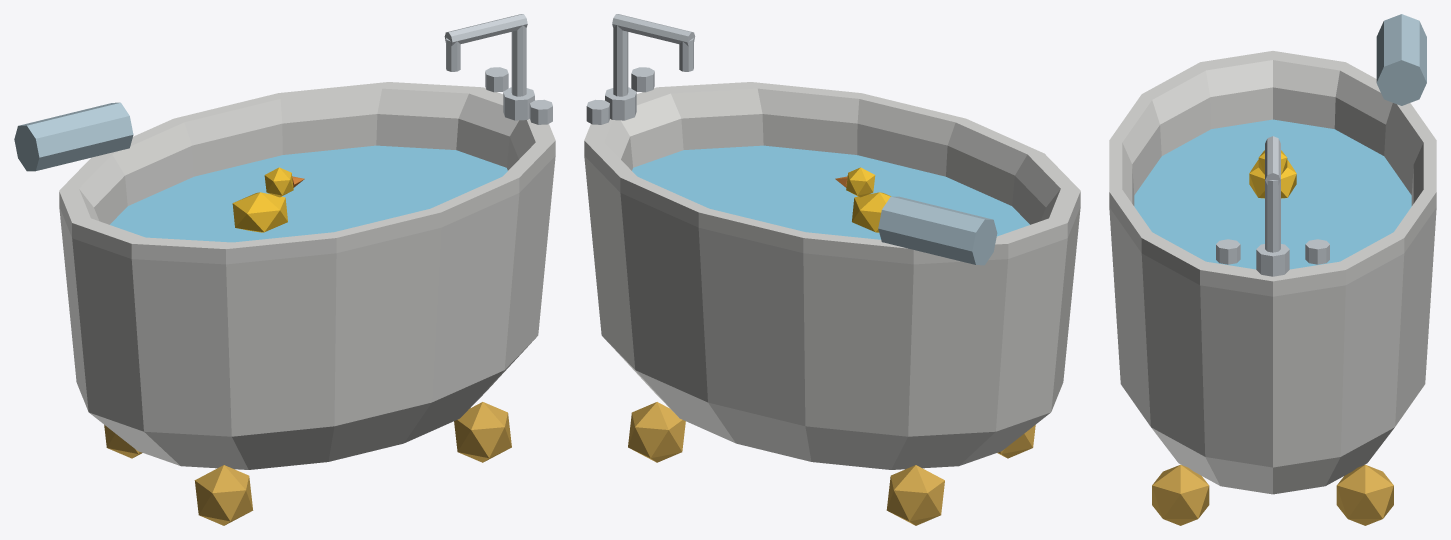
Rendered from bathtub.glb.
The picture shows the model from 3 angles, left to right: view 1: azimuth 30°, elevation 25°; view 2: azimuth 150°, elevation 25°; view 3: azimuth 270°, elevation 25°; orthographic projection.
Visible parts, largest first — view 1: bathtub_Body; view 2: bathtub_Body; view 3: bathtub_Body.
Part boxes in pixels (x1=…): bathtub_Body: x1=14, y1=14, x2=555, y2=525; bathtub_Body: x1=584, y1=14, x2=1080, y2=525; bathtub_Body: x1=1109, y1=14, x2=1436, y2=525.
Bounding box in the file's own units: 1 × 0.8 × 0.6.
